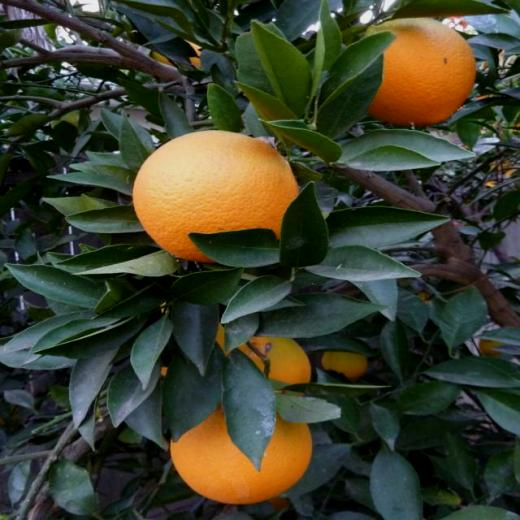Grape: (132, 127, 298, 269), (168, 394, 310, 504), (356, 14, 480, 122), (160, 320, 314, 398), (448, 89, 520, 194), (150, 36, 204, 70), (324, 351, 367, 379), (478, 340, 505, 357), (416, 292, 436, 304)
